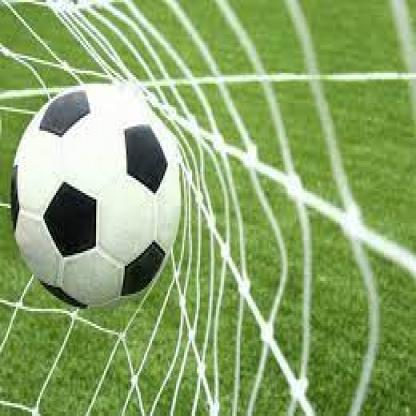ball: (9, 80, 183, 312)
